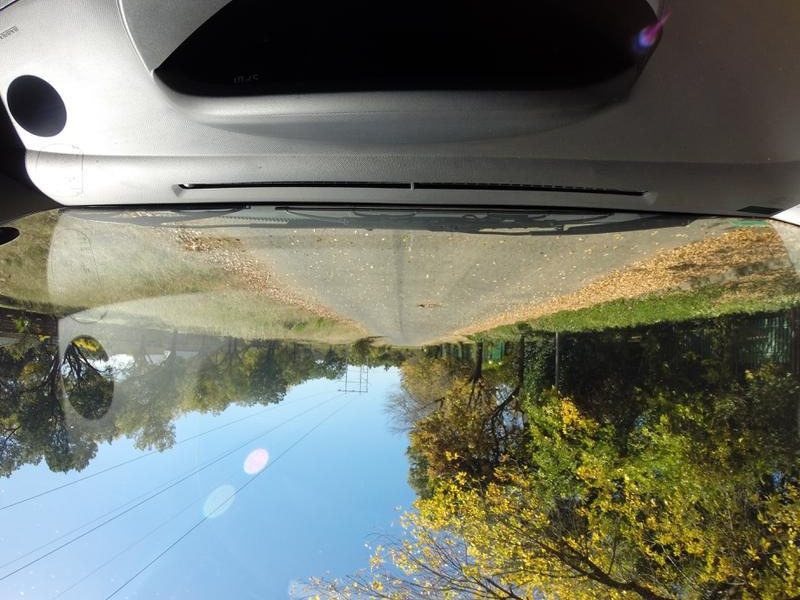pothole: (419, 299, 448, 307)
